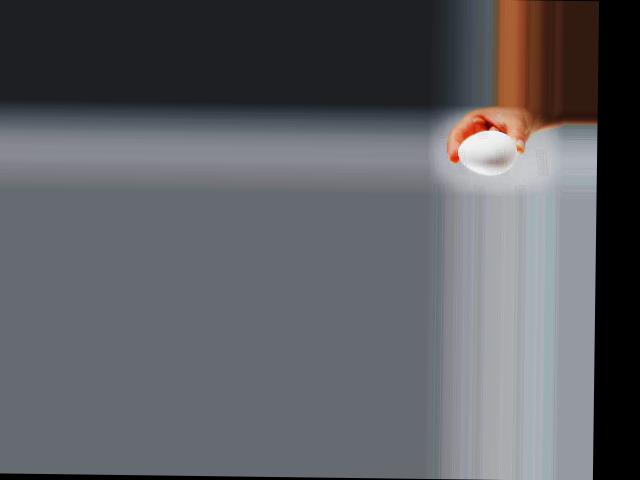egg: (456, 131, 517, 174)
